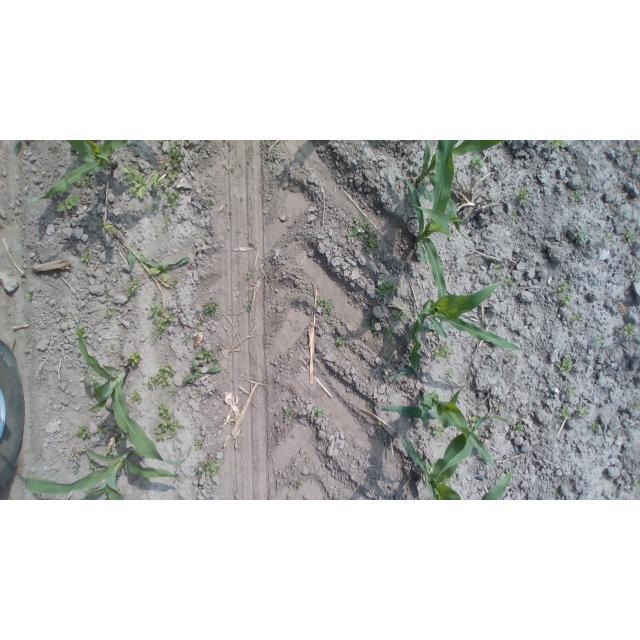Maize: (391, 235, 523, 384), (76, 325, 193, 468), (382, 387, 499, 470), (400, 414, 512, 500), (23, 446, 182, 500), (13, 141, 127, 204), (404, 140, 455, 266), (414, 140, 507, 206), (112, 233, 192, 273)
Weeds: (139, 255, 191, 282), (348, 215, 381, 253), (147, 302, 177, 343), (151, 169, 182, 208), (154, 403, 180, 441), (183, 360, 222, 382), (124, 165, 149, 199), (148, 361, 177, 388), (159, 142, 183, 167), (376, 280, 399, 299), (196, 459, 221, 476), (557, 358, 576, 377), (56, 196, 77, 213), (128, 275, 143, 298), (435, 341, 452, 360), (197, 348, 218, 363), (362, 318, 378, 337), (74, 424, 93, 439), (317, 298, 333, 315), (201, 300, 219, 315), (384, 326, 396, 345), (104, 221, 119, 236), (470, 154, 484, 170), (335, 336, 348, 353), (555, 277, 570, 291), (392, 308, 407, 322), (128, 351, 141, 367), (431, 423, 445, 437), (84, 176, 97, 191), (624, 322, 637, 337), (314, 406, 327, 420), (564, 383, 577, 397), (574, 230, 585, 245), (131, 391, 144, 403), (194, 316, 206, 329), (560, 404, 571, 418), (560, 291, 571, 305), (571, 192, 585, 203), (517, 187, 528, 201), (75, 327, 87, 339), (625, 230, 635, 243), (285, 408, 296, 419), (513, 424, 524, 435), (577, 407, 589, 417), (472, 416, 478, 435), (550, 140, 564, 148), (81, 251, 92, 261), (504, 275, 514, 286), (596, 333, 607, 343), (293, 481, 305, 490), (88, 459, 98, 469), (151, 203, 160, 214), (195, 387, 204, 398), (426, 462, 434, 474), (106, 447, 116, 456), (631, 479, 639, 490), (104, 309, 116, 316), (163, 216, 172, 225), (79, 372, 88, 381), (572, 314, 581, 323), (495, 261, 501, 274), (72, 466, 80, 475), (591, 422, 599, 431), (456, 198, 466, 205), (605, 234, 613, 242), (25, 292, 32, 301), (194, 440, 201, 449), (85, 487, 95, 493), (376, 420, 383, 427), (205, 203, 213, 209), (245, 304, 251, 312), (168, 279, 176, 285), (449, 371, 456, 377), (110, 343, 117, 349), (247, 271, 253, 278), (90, 379, 97, 385), (98, 427, 105, 433), (581, 181, 587, 188), (511, 211, 517, 218), (552, 489, 557, 497), (636, 146, 640, 155), (143, 477, 149, 483), (444, 479, 449, 485), (183, 336, 189, 341), (152, 291, 157, 297), (118, 437, 123, 443), (76, 181, 81, 186), (599, 242, 604, 247), (71, 452, 77, 456), (351, 348, 357, 352), (104, 292, 108, 297), (636, 404, 640, 409), (403, 144, 406, 149), (117, 487, 120, 491)
